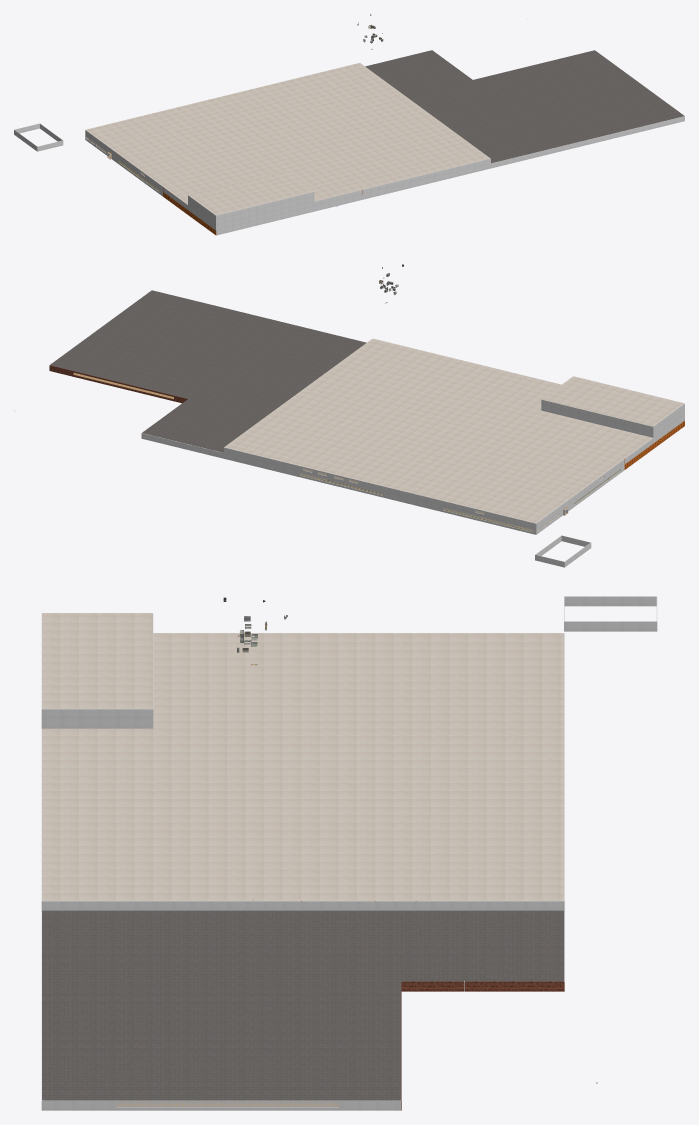
The picture shows the model from 3 angles, top to bottom: view 1: azimuth 30°, elevation 25°; view 2: azimuth 150°, elevation 25°; view 3: azimuth 270°, elevation 25°; orthographic projection. The views are drawn at different scales.
Visible parts, largest first — view 1: Vaste_elementen_1; view 2: Vaste_elementen_1; view 3: Vaste_elementen_1.
Boxes of the visible parts, x1,y1,x2,y2 form: Vaste_elementen_1: (14,18,684,235); Vaste_elementen_1: (14,290,684,567); Vaste_elementen_1: (41,596,657,1110).
Bounding box in the file's own units: 322 × 77.38 × 166.
Materials: 158 (78 with a texture image).
